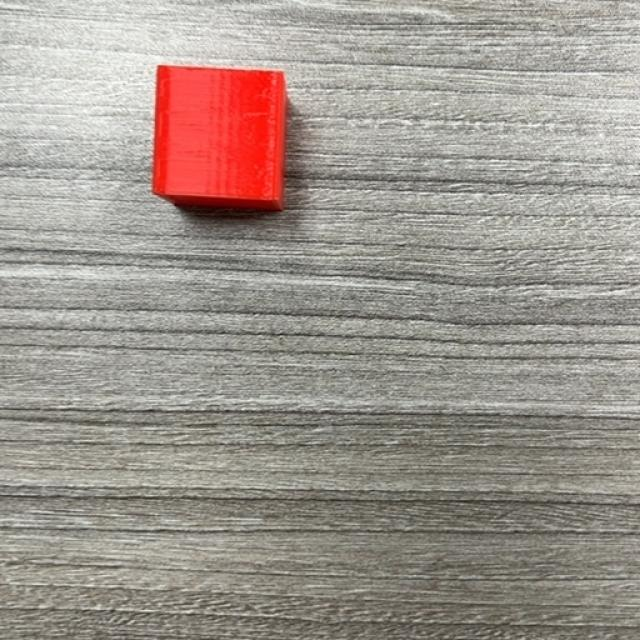Rojo: (151, 64, 289, 215)
